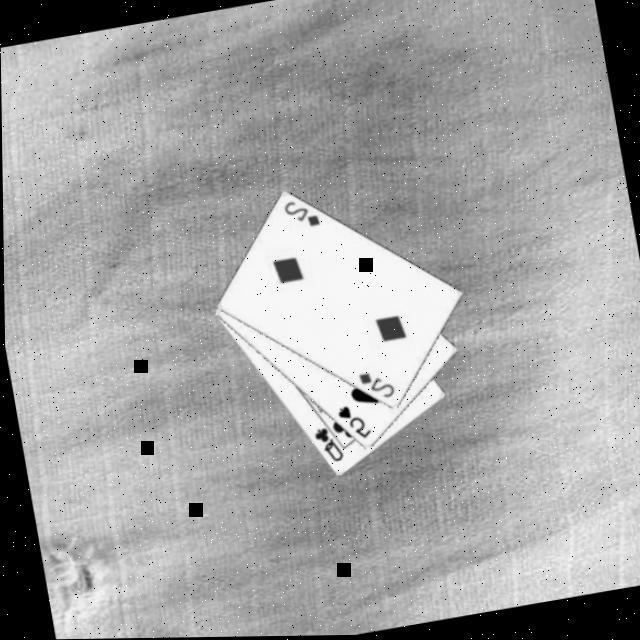2D: (278, 192, 321, 235), (353, 364, 396, 404)
5S: (330, 398, 373, 445)
QC: (306, 422, 344, 468)
